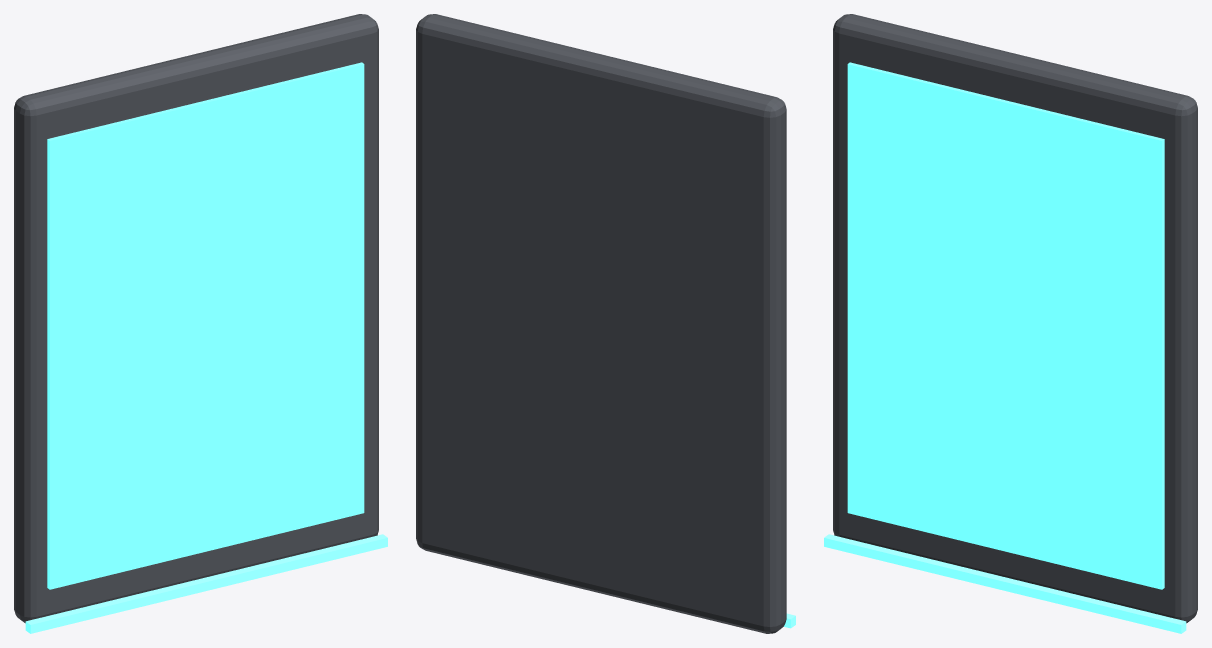
Rendered from control_panel_touch_slab.glb.
The picture shows the model from 3 angles, left to right: view 1: azimuth 30°, elevation 25°; view 2: azimuth 150°, elevation 25°; view 3: azimuth 330°, elevation 25°; orthographic projection.
Visible parts, largest first — view 1: GD_control_panel_touch_slab__m1, GD_control_panel_touch_slab__m0, GD_control_panel_touch_slab__m2; view 2: GD_control_panel_touch_slab__m0; view 3: GD_control_panel_touch_slab__m1, GD_control_panel_touch_slab__m0, GD_control_panel_touch_slab__m2.
Part boxes in pixels (bbox=[...]): GD_control_panel_touch_slab__m1: bbox=[47, 62, 364, 589]; GD_control_panel_touch_slab__m0: bbox=[14, 14, 378, 623]; GD_control_panel_touch_slab__m2: bbox=[25, 534, 387, 633]; GD_control_panel_touch_slab__m0: bbox=[416, 14, 786, 633]; GD_control_panel_touch_slab__m1: bbox=[847, 62, 1164, 589]; GD_control_panel_touch_slab__m0: bbox=[833, 14, 1197, 623]; GD_control_panel_touch_slab__m2: bbox=[824, 534, 1186, 633].
Bounding box in the file's own units: 0.5 × 0.7 × 0.051.
